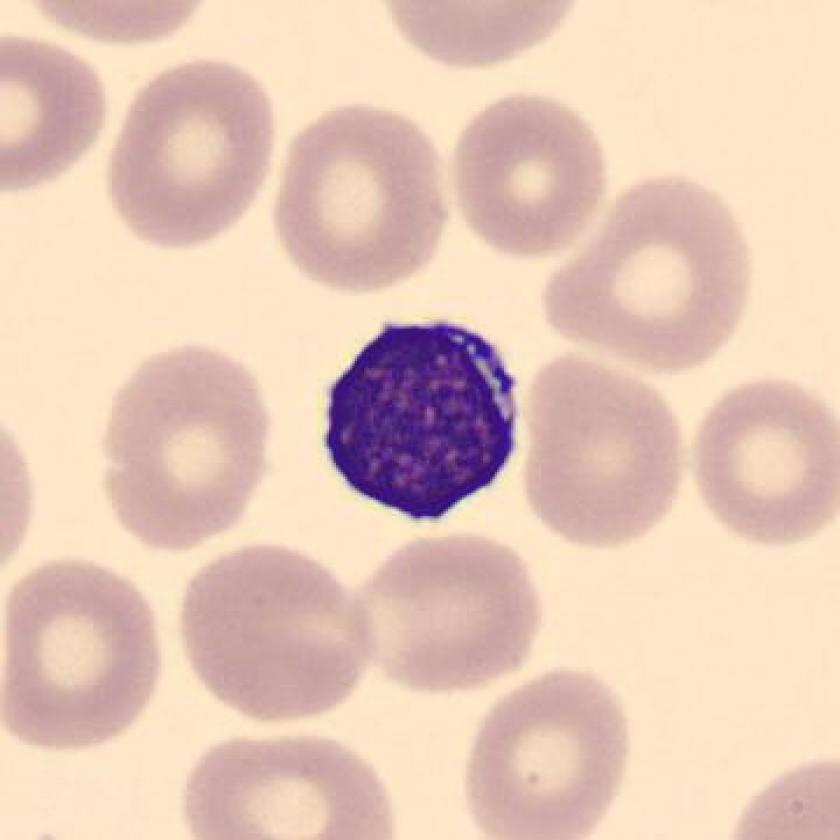lymphocyte: (314, 309, 535, 542)
